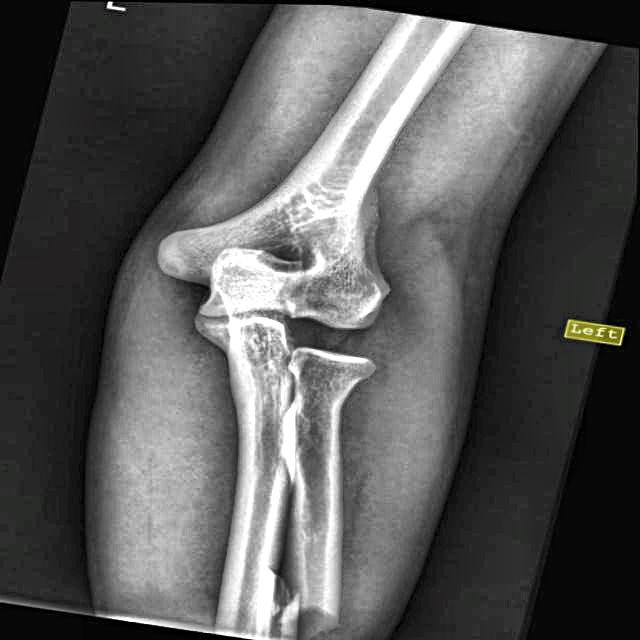Spiral: (217, 553, 348, 640)
